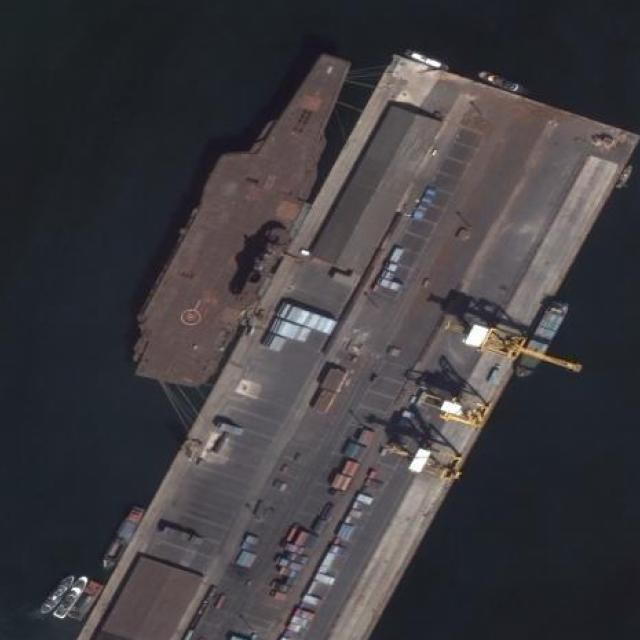Aircraft Carrier: (110, 27, 380, 411)
Cargo: (510, 297, 572, 383)
Other Ship: (94, 502, 148, 575), (52, 573, 92, 620), (39, 571, 78, 617)
